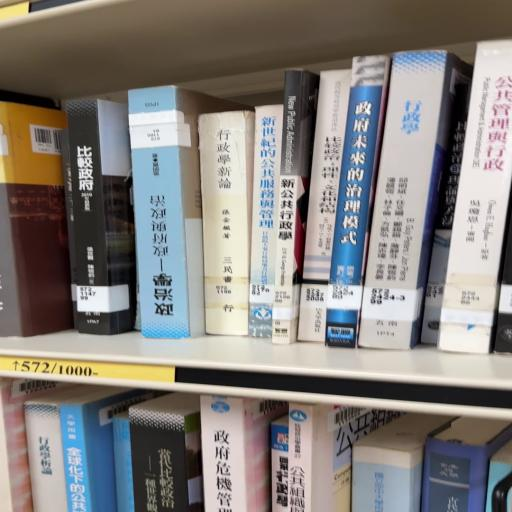reverse: (129, 87, 245, 339)
